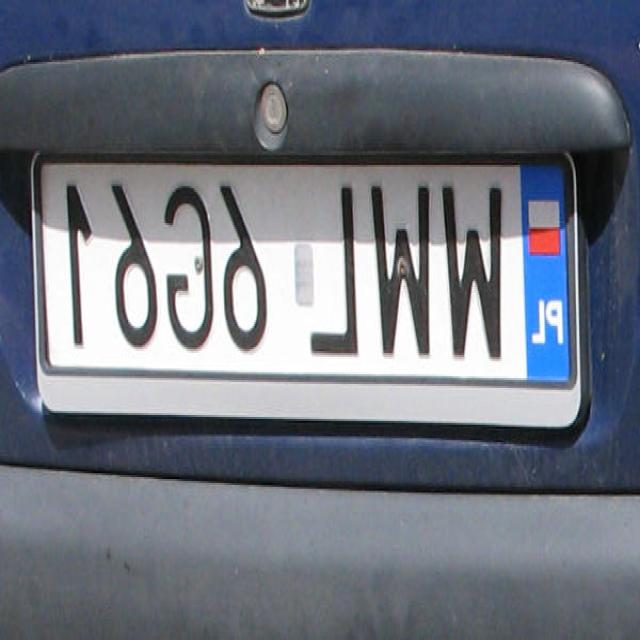pl_license_plate: (42, 163, 570, 370)
